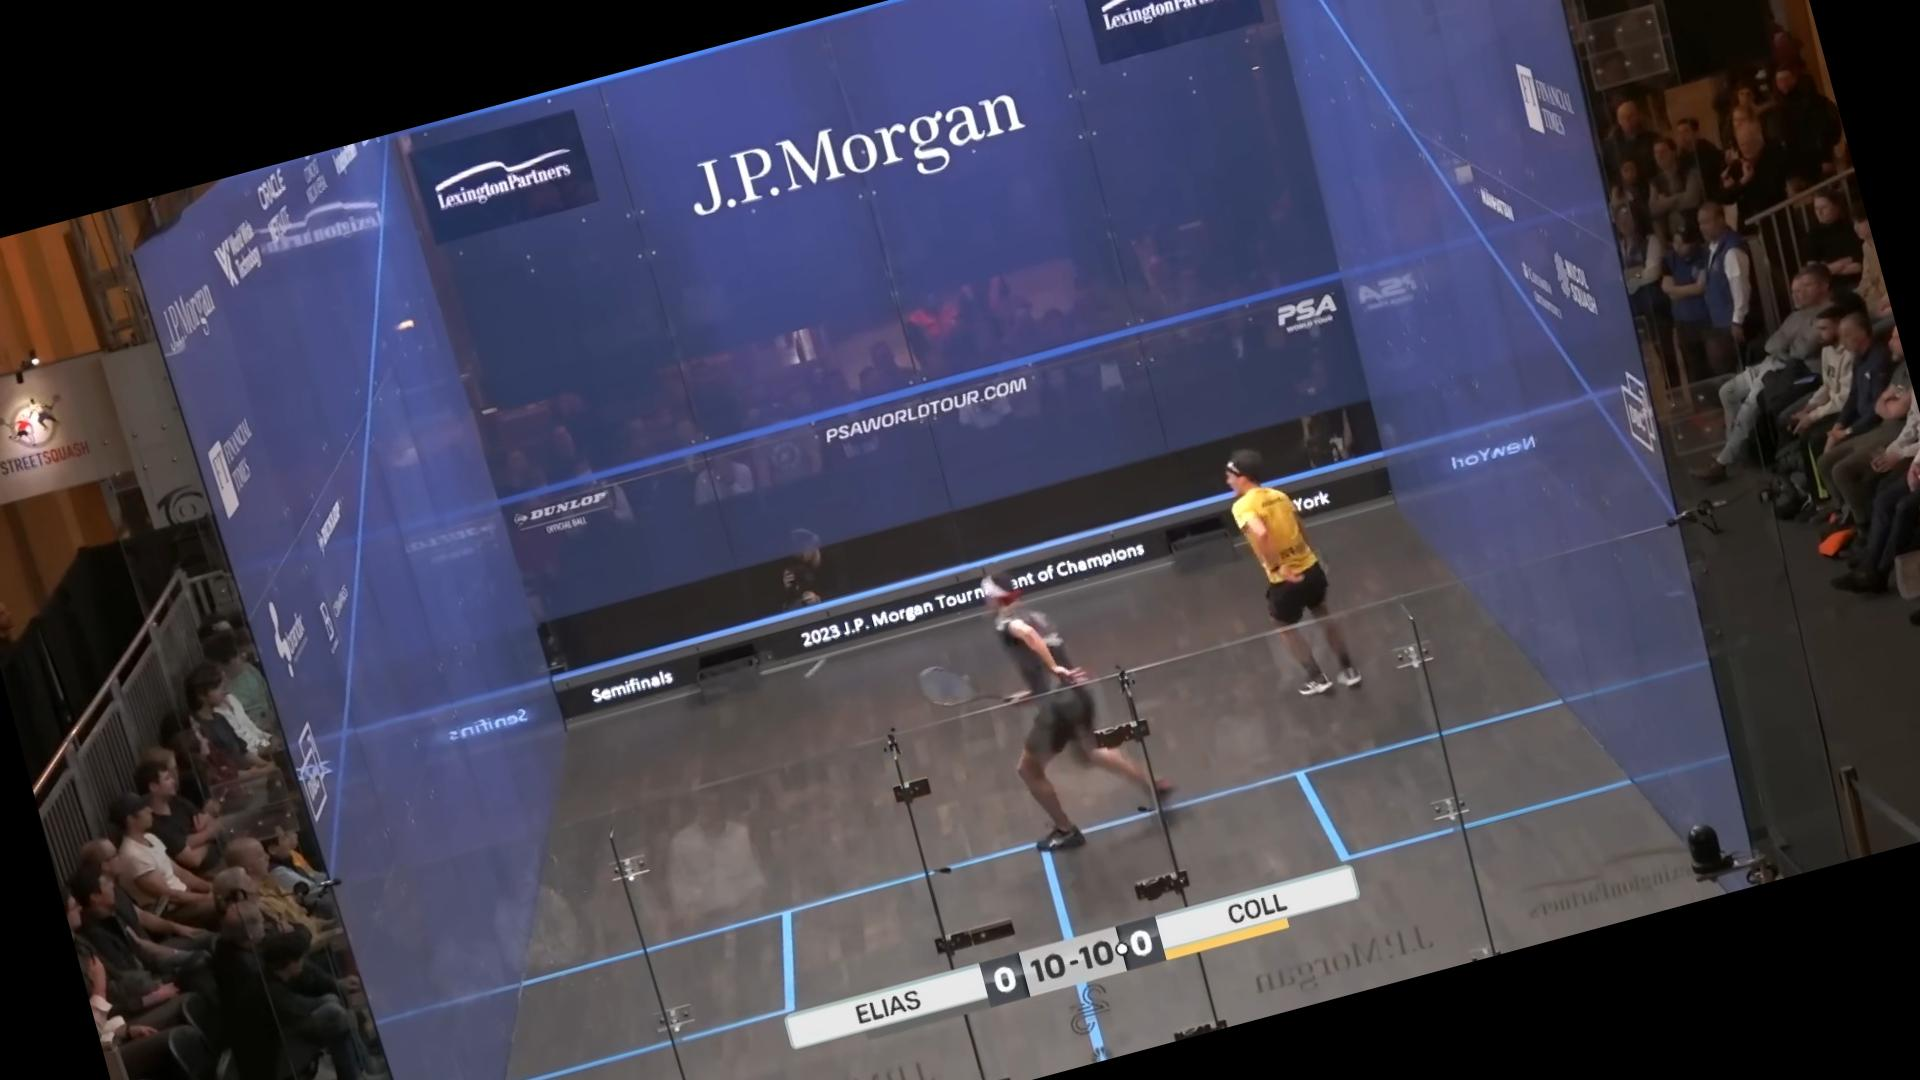Racket: (898, 637, 1022, 735)
